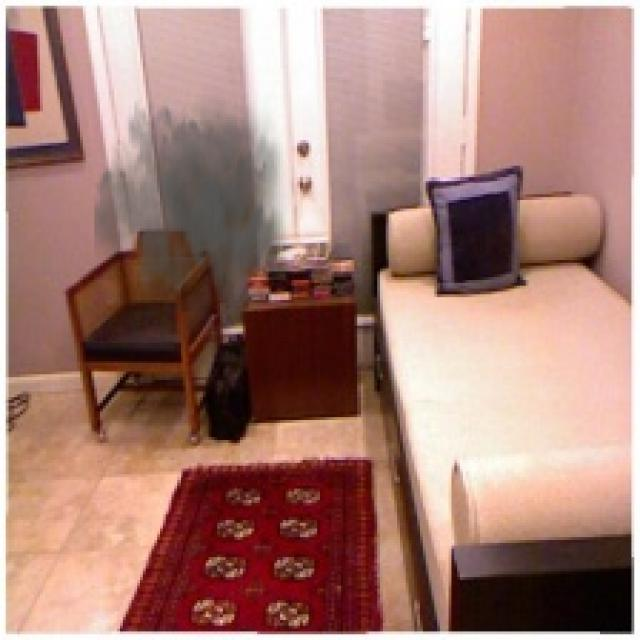smoke: (94, 77, 297, 312)
